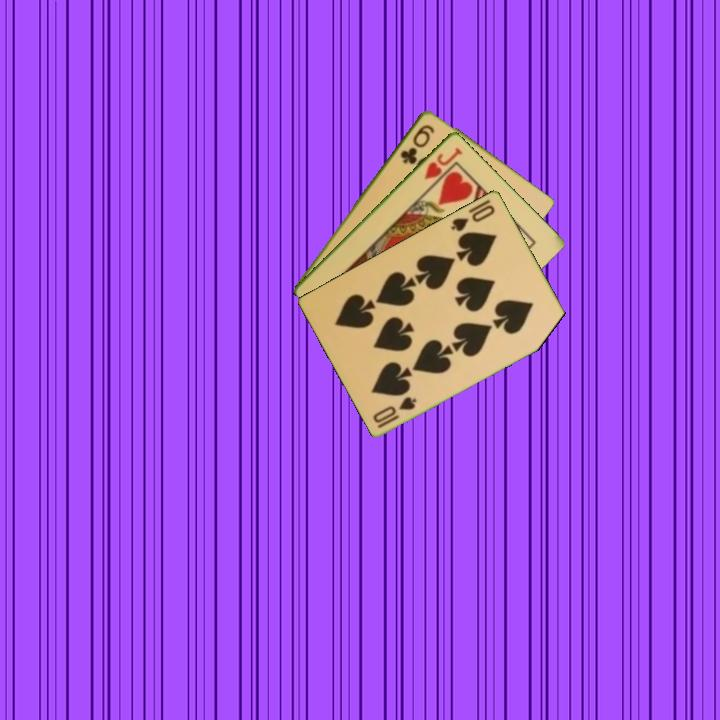10s: (369, 393, 420, 431), (447, 201, 498, 234)
6c: (397, 120, 437, 167)
Jh: (421, 143, 465, 182)
